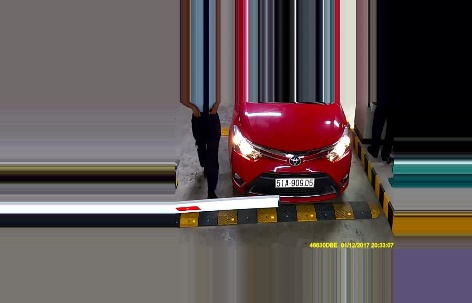plate: (273, 175, 316, 187)
